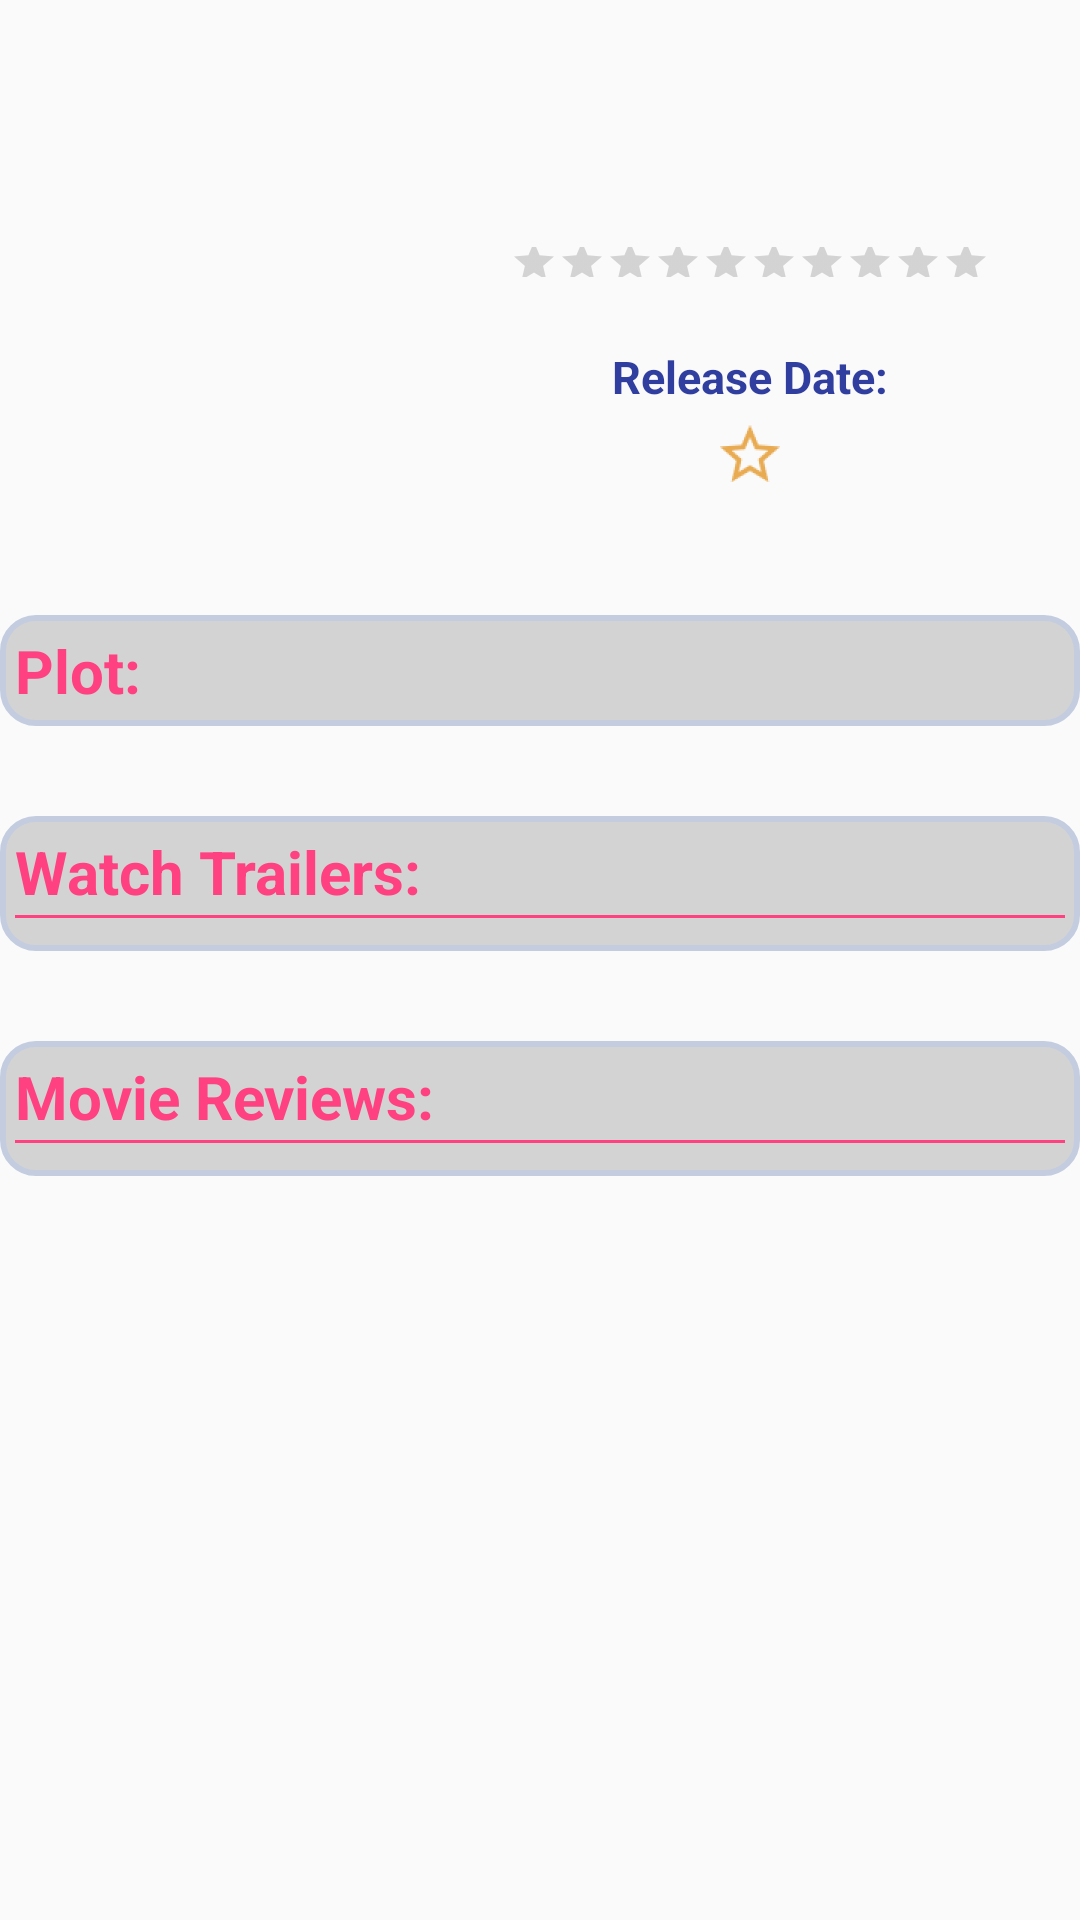

Icon click points for this 1080×1920 phone screenshot, format (x,y):
starbutton: (750,453)
